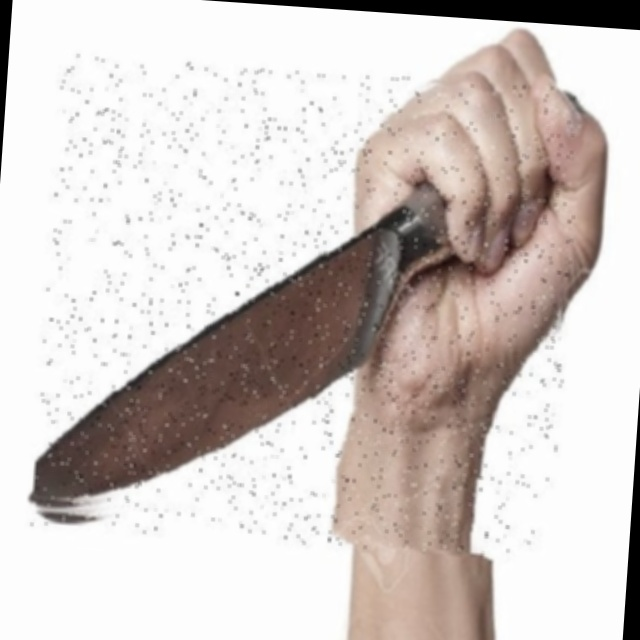Sharp-Object: (31, 53, 583, 560)
